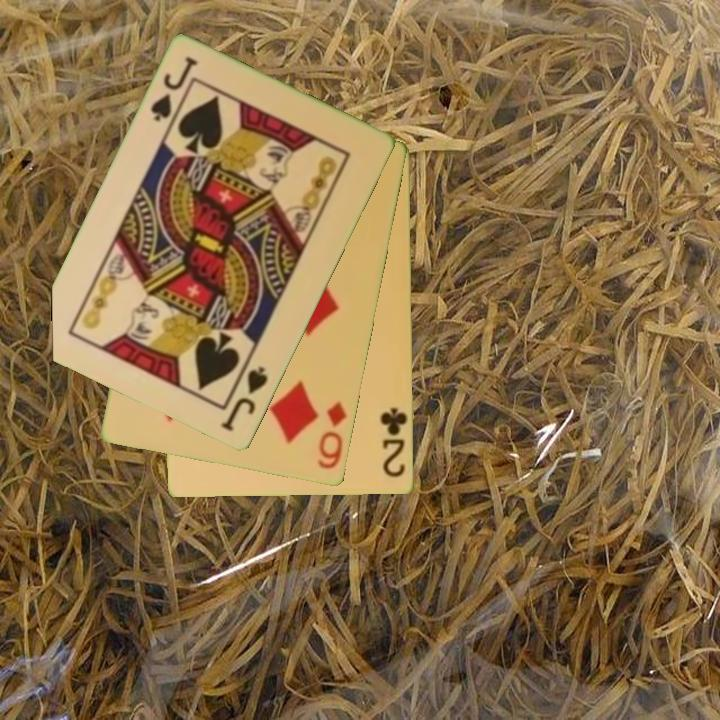2c: (377, 404, 410, 480)
6d: (314, 399, 350, 473)
Js: (147, 53, 201, 125), (218, 363, 271, 435)
